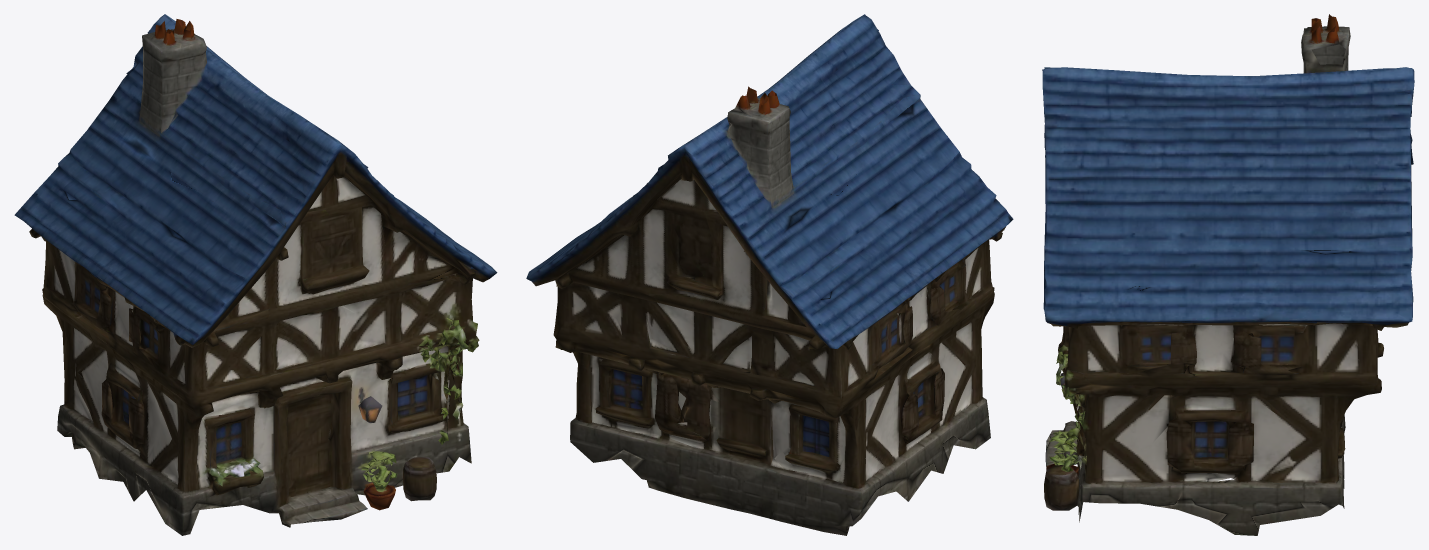
File: house_blue_roof.glb
The picture shows the model from 3 angles, left to right: view 1: azimuth 30°, elevation 25°; view 2: azimuth 150°, elevation 25°; view 3: azimuth 270°, elevation 25°; orthographic projection. The views are drawn at different scales.
Visible parts, largest first — view 1: geometry_0; view 2: geometry_0; view 3: geometry_0.
Part boxes in pixels (x1=…): geometry_0: x1=14, y1=14, x2=497, y2=535; geometry_0: x1=526, y1=14, x2=1013, y2=535; geometry_0: x1=1042, y1=14, x2=1414, y2=535.
Size of the model in its own units: 0.7709 by 0.9862 by 0.7767.
1 material, 1 textured.
